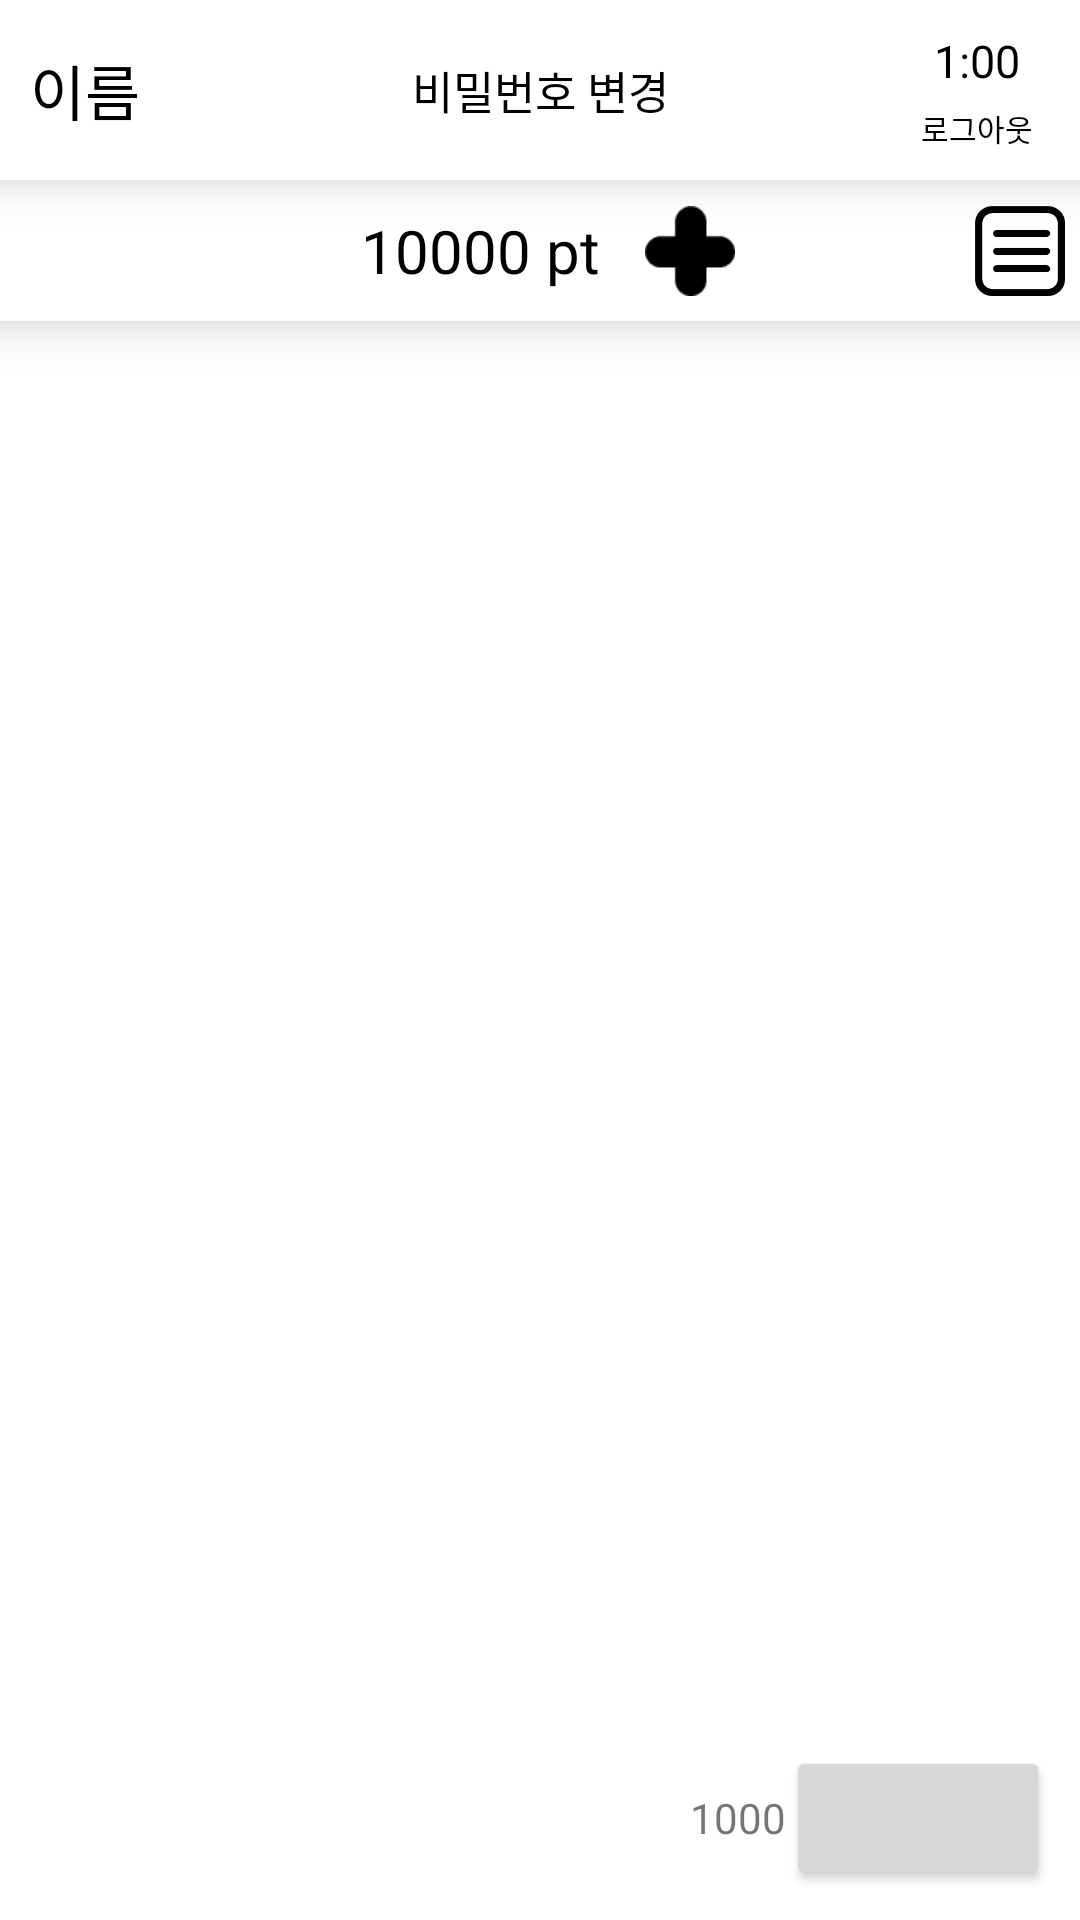

Screen size 1080w x 1920h. Icon name, then its box in pixels as Rect(x1, y1, x2, y2):
menu: Rect(975, 206, 1065, 296)
plus: Rect(645, 206, 735, 296)
